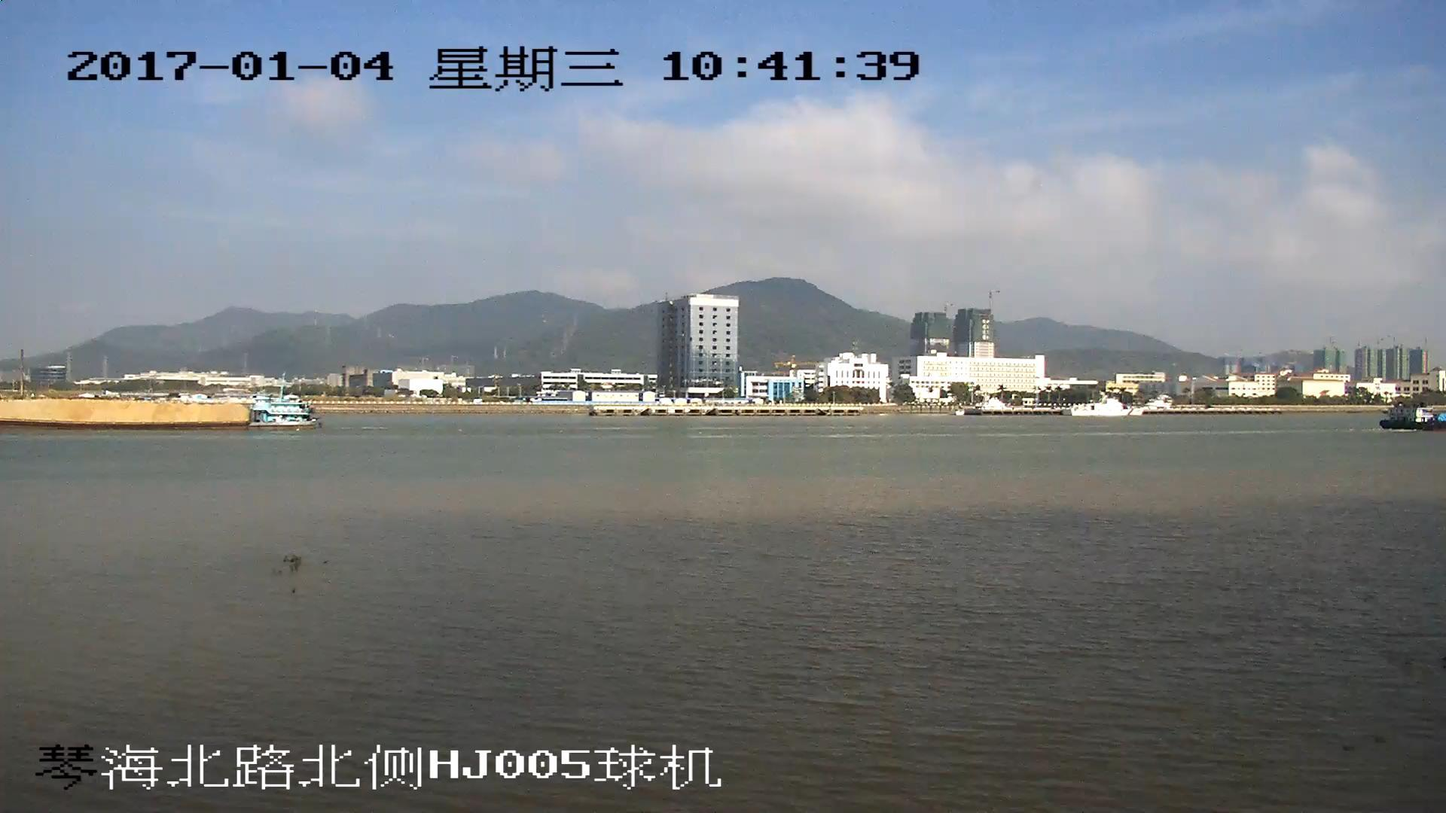ore carrier: (0, 397, 317, 431)
